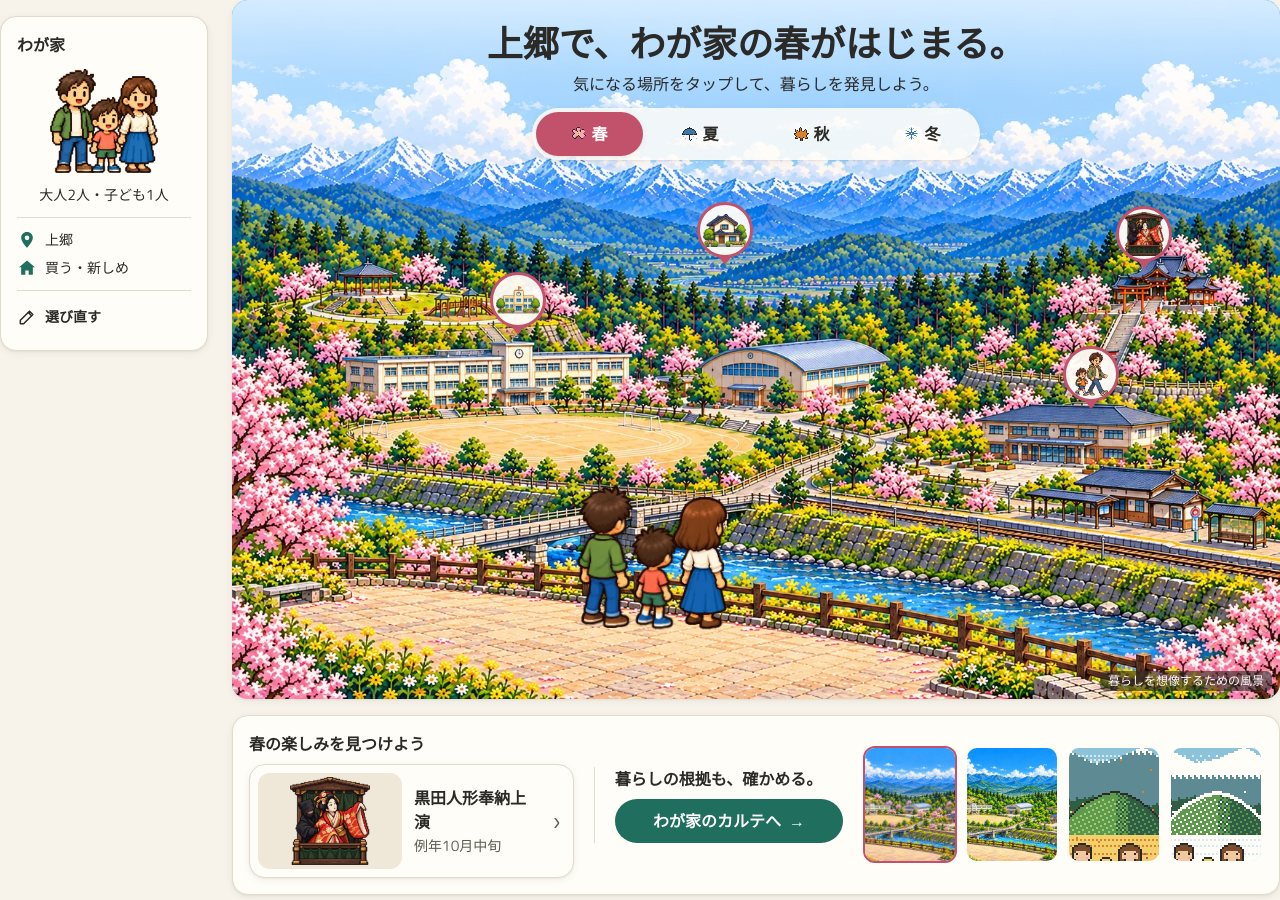
Test case: KurashiView：上郷・春の風景とピン（028） › 行事は行われる場所にピンを分けて立て、押すとその行事だけを出す（2026-10-31）
This screenshot has width=1280, height=900.
Check: the button named "黒田人形" is shown, box [1116,206,1172,269]
Click the button named "歩こう会".
click(1091, 377)  # box [1063,346,1119,409]
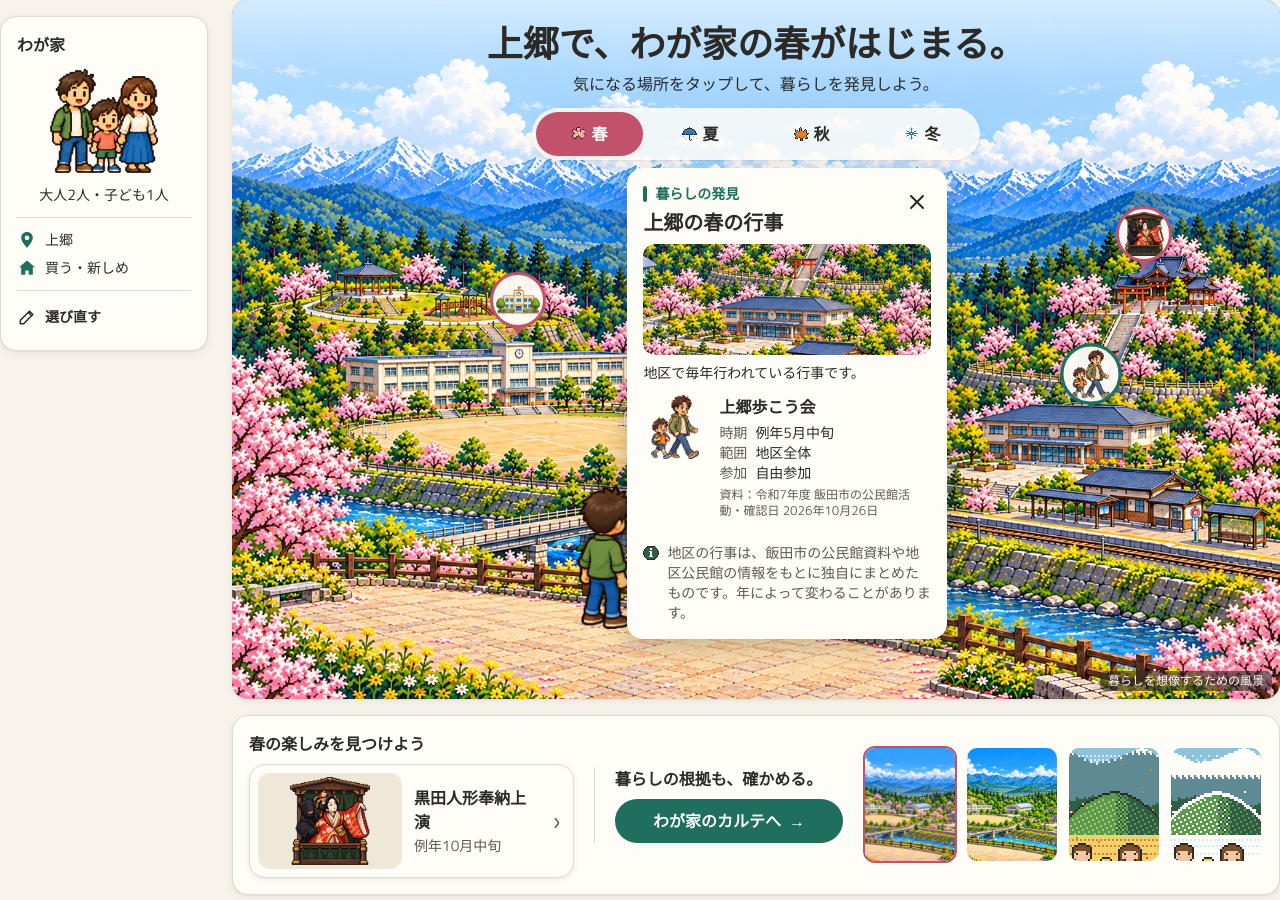
Check: the dialog "上郷の春の行事" does not show "黒田人形奉納上演", box [627,168,947,639]
Check: the dialog "上郷の春の行事" shows "上郷歩こう会", box [719,396,815,418]
